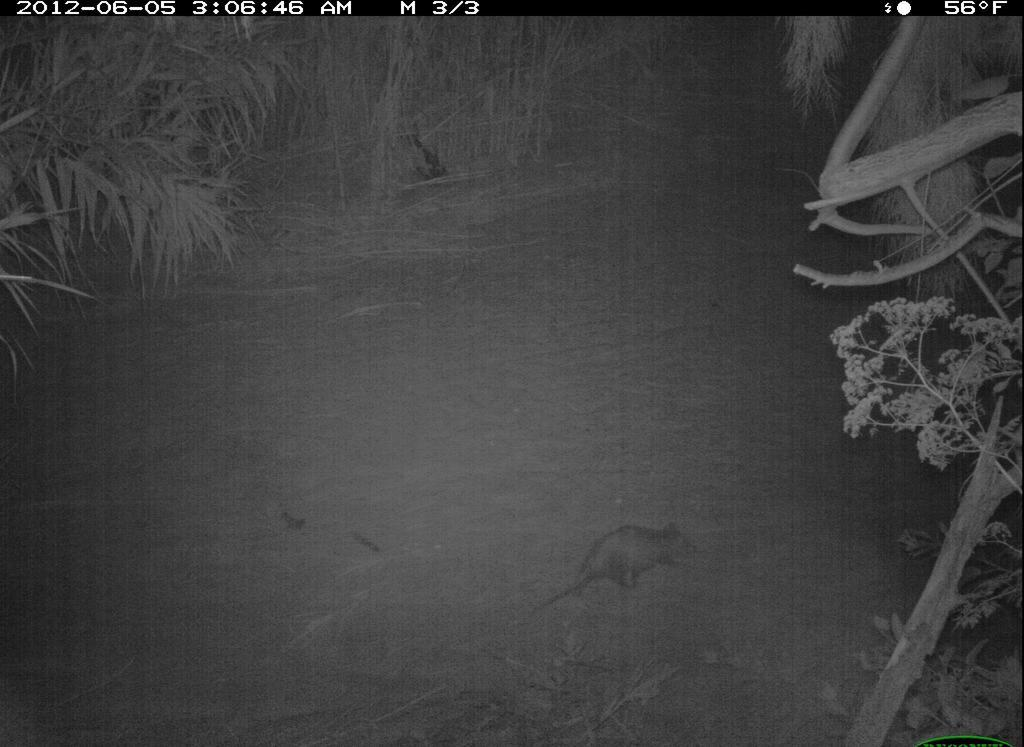opossum: (524, 520, 712, 616)
